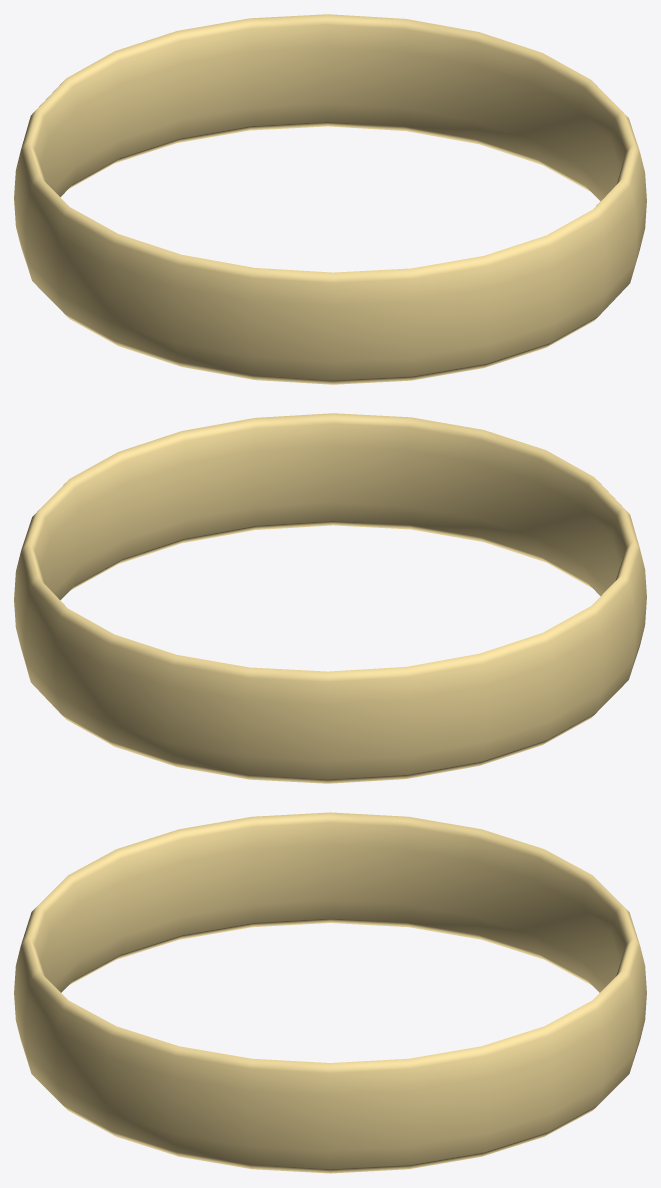
The model's file is Skinring.FBX.
3 renders of one model, top to bottom at view 1: azimuth 30°, elevation 25°; view 2: azimuth 150°, elevation 25°; view 3: azimuth 270°, elevation 25°, orthographic.
Visible parts, largest first — view 1: Torus021; view 2: Torus021; view 3: Torus021.
Boxes of the visible parts, x1=… form: Torus021: x1=14, y1=14, x2=646, y2=384; Torus021: x1=14, y1=413, x2=646, y2=783; Torus021: x1=14, y1=812, x2=646, y2=1173.
Size of the model in its own units: 5.29 by 5.4 by 1.04.
Materials: 1 (1 with a texture image).
